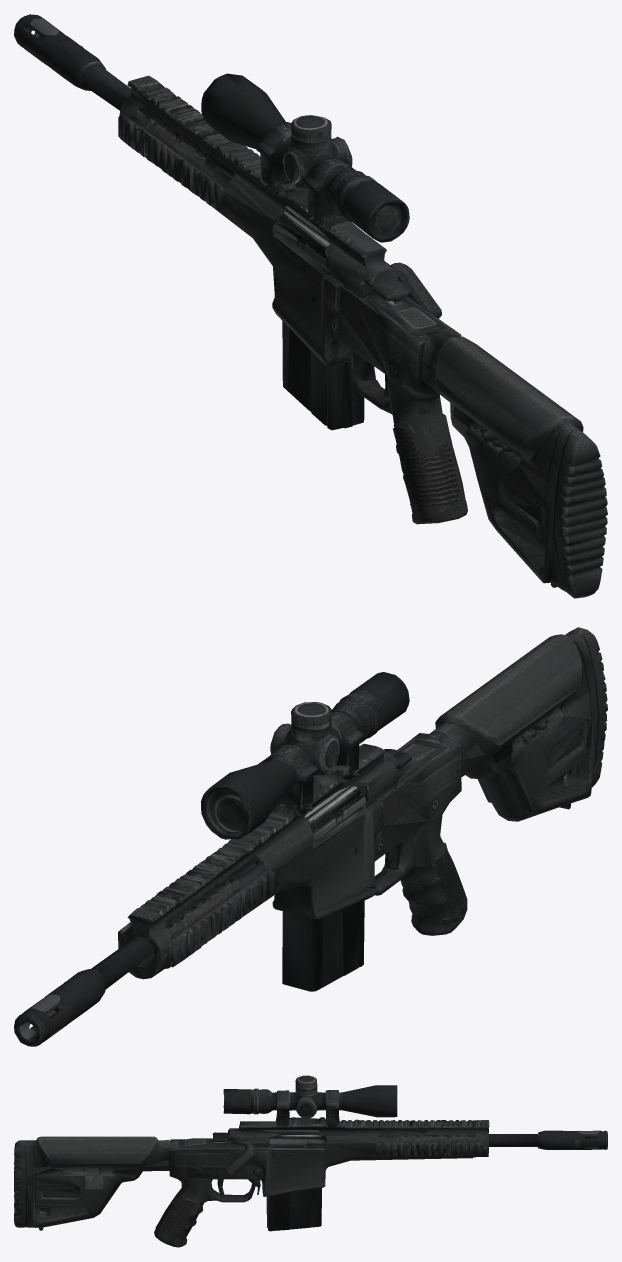
File: sr_longwatch.glb
3 views of the same model, one above another, from view 1: azimuth 30°, elevation 25°; view 2: azimuth 150°, elevation 25°; view 3: azimuth 270°, elevation 25° (orthographic). The views are drawn at different scales.
Visible parts, largest first — view 1: sr_longwatch; view 2: sr_longwatch; view 3: sr_longwatch.
Boxes of the visible parts, <box> form: sr_longwatch: <box>14,14,607,598</box>; sr_longwatch: <box>14,627,607,1046</box>; sr_longwatch: <box>14,1075,607,1247</box>.
Size of the model in its own units: 0.1049 by 0.3425 by 1.12.
1 material, 1 textured.
